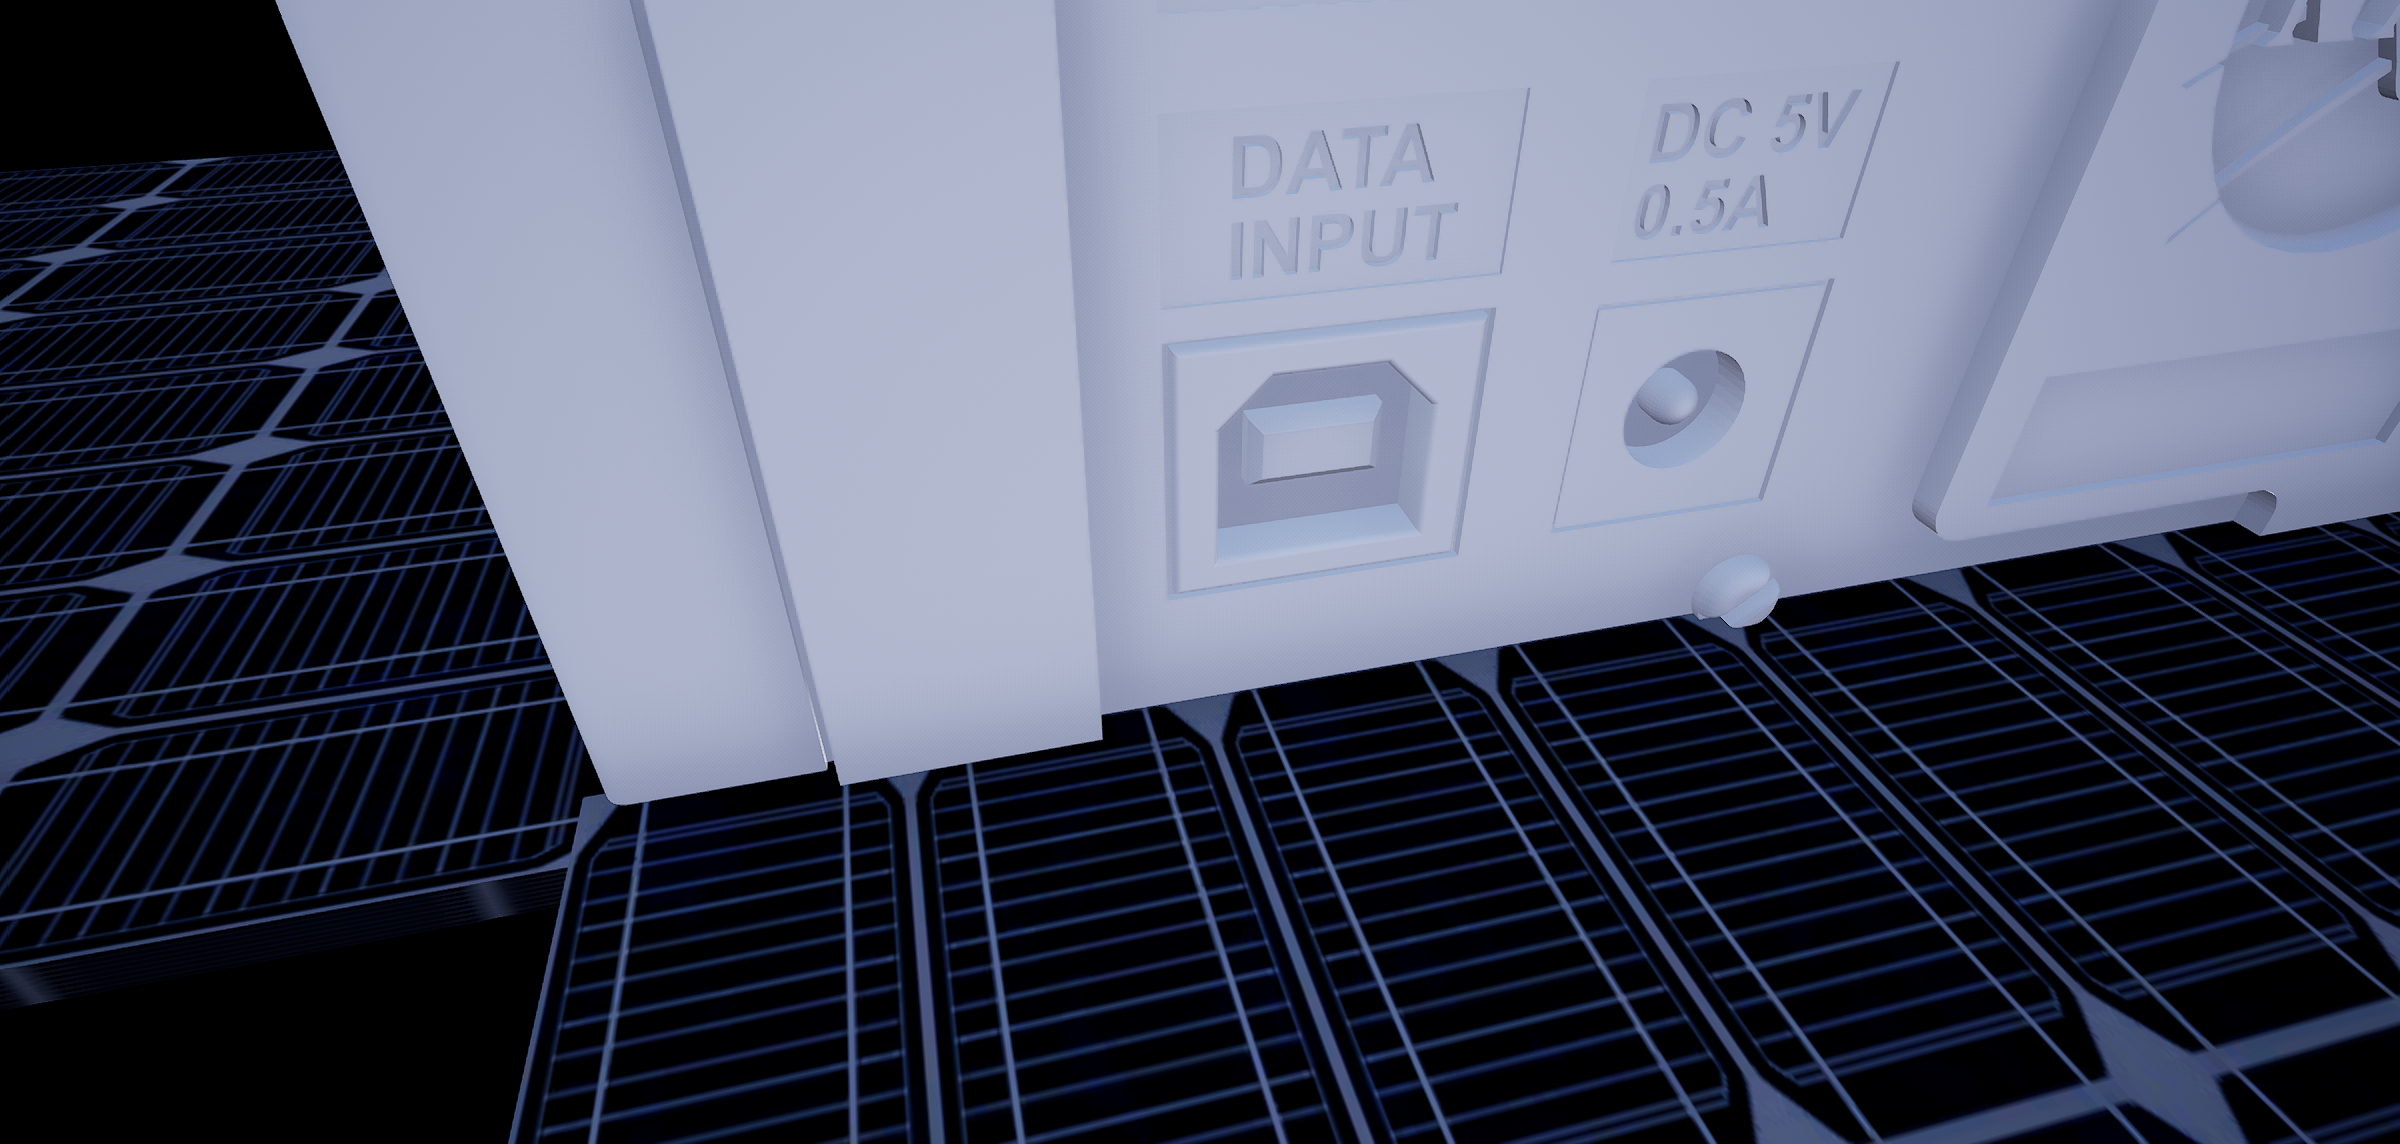dc: (1609, 335, 1766, 485)
usb: (1202, 363, 1451, 580)
